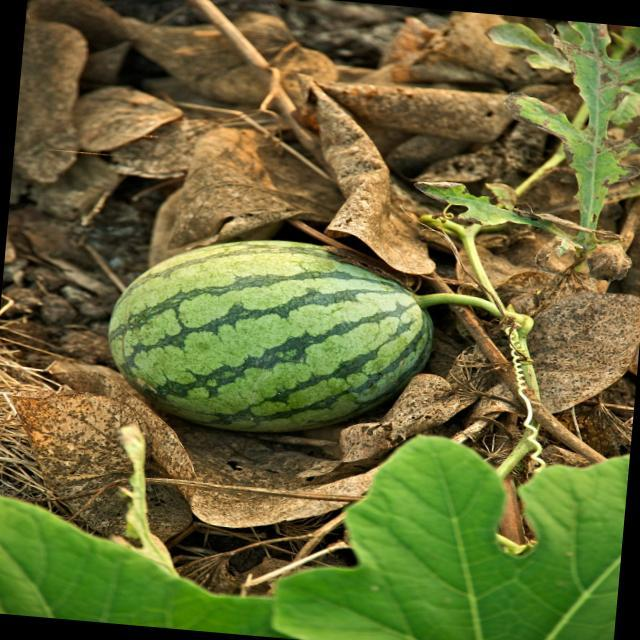WATERMELON: (100, 223, 444, 453)
